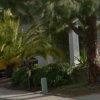Palm tree: (10, 14, 29, 74)
